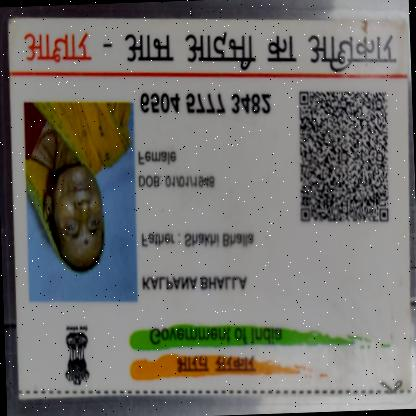aadhaar_card: (5, 10, 415, 414)
